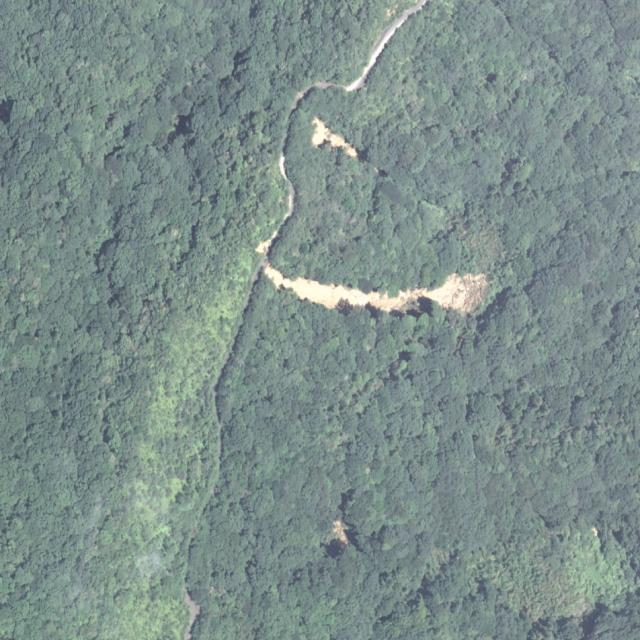landslide: (264, 262, 490, 313), (312, 117, 357, 157)
